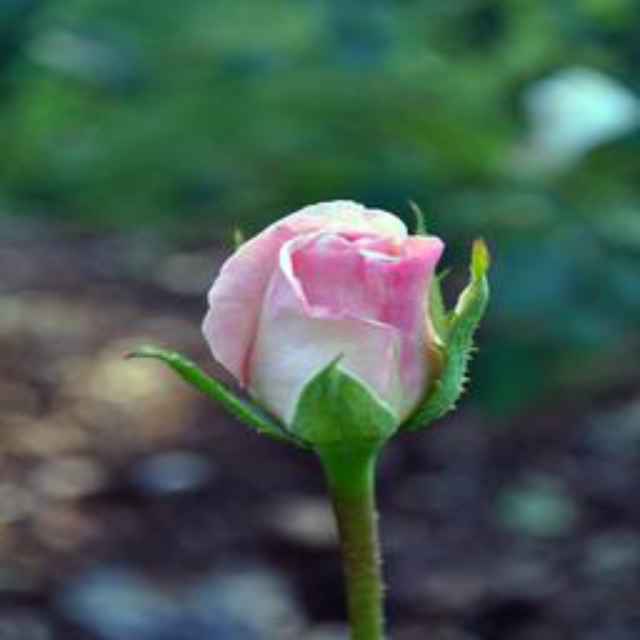rose: (155, 185, 495, 462)
